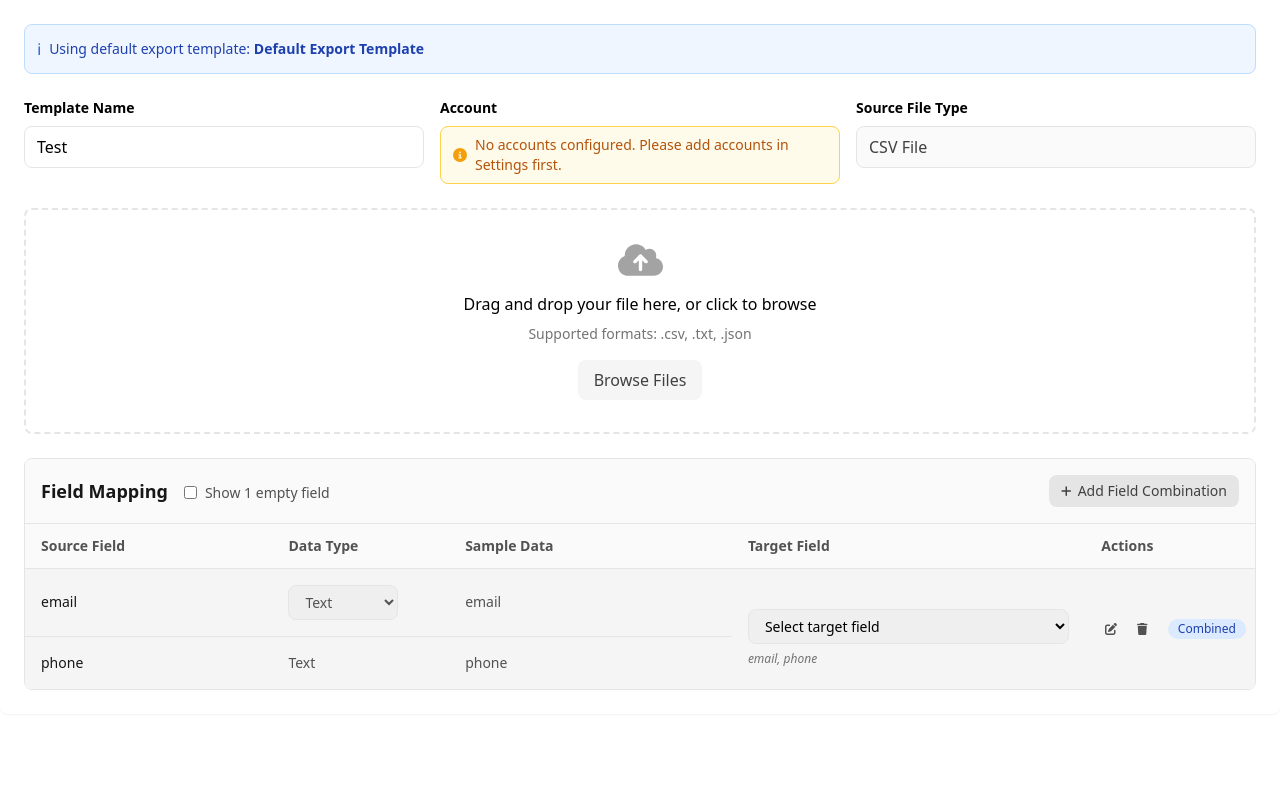
Test: NewImportTemplateEditor › Field Combination Management › removes field combination when delete button is clicked
Expected: the text "Combined" is shown, [1168,619,1246,639]
Click the button titled "delete combination".
click(1143, 628)  # box [1133,614,1152,642]
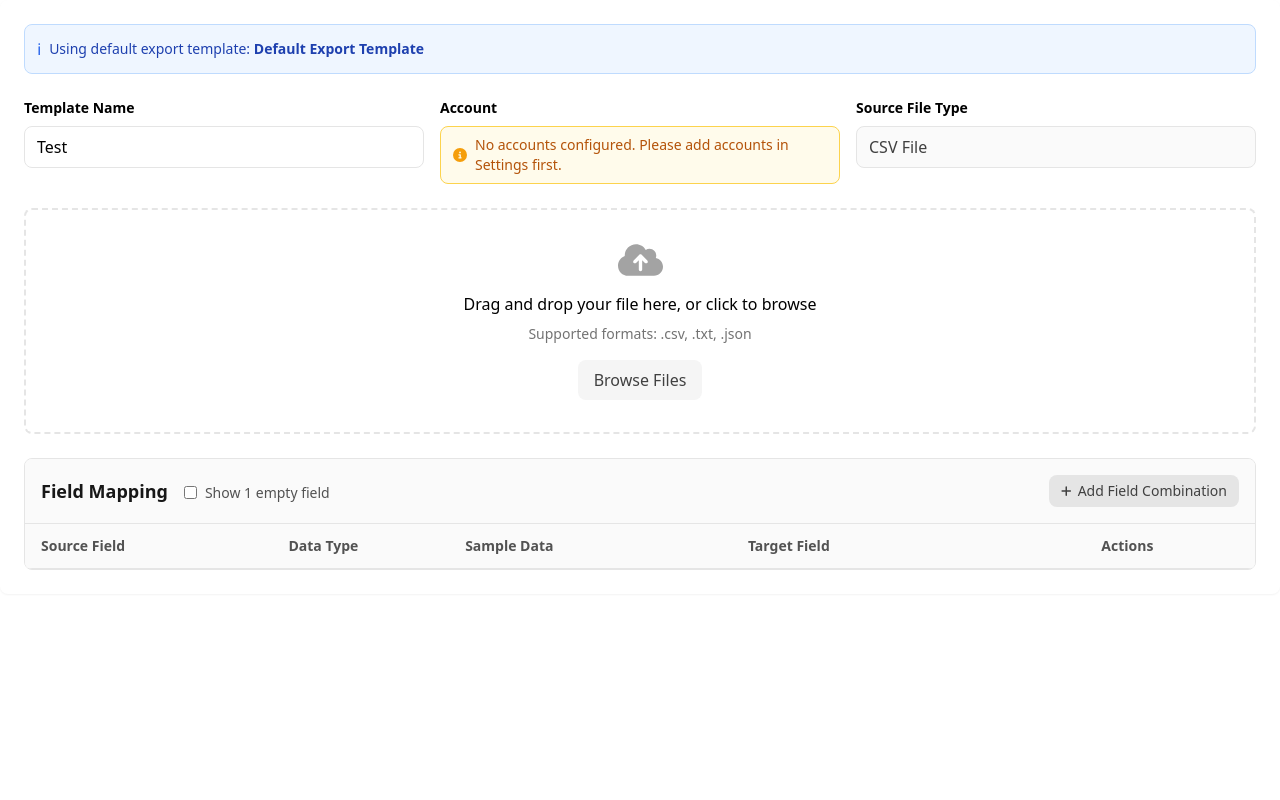
Result: the text "Combined" is gone
